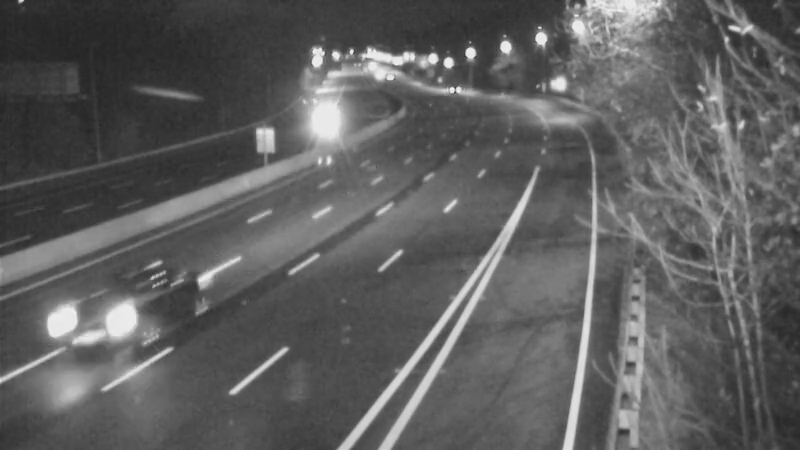vehicle: (43, 258, 153, 368), (428, 65, 478, 115), (298, 100, 348, 150)
